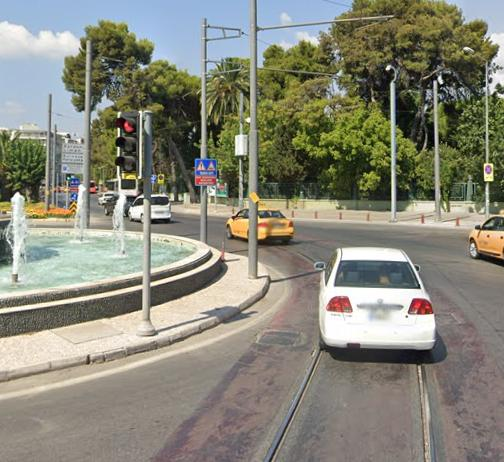redlight: (116, 112, 139, 170)
